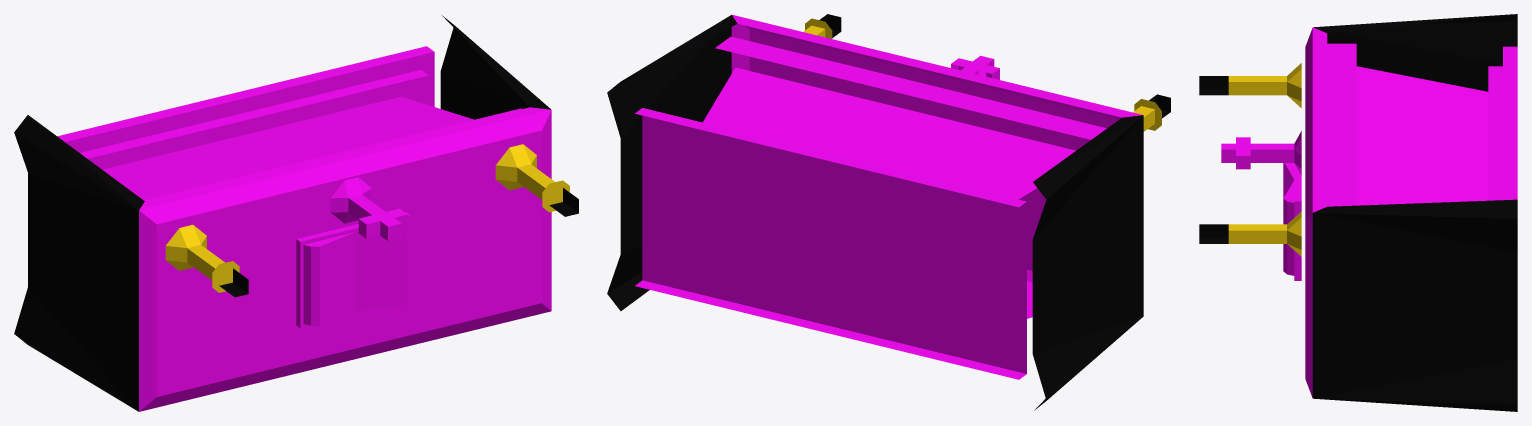
Rendered from altar.obj.
3 views of the same model, side by side, from view 1: azimuth 30°, elevation 25°; view 2: azimuth 150°, elevation 25°; view 3: azimuth 270°, elevation 25° (orthographic). The views are drawn at different scales.
Visible parts, largest first — view 1: altar; view 2: altar; view 3: altar.
Part boxes in pixels (x1,y1,x2,y2): altar: (14, 15, 578, 411); altar: (607, 14, 1170, 410); altar: (1199, 14, 1517, 411).
Bounding box in the file's own units: 2.56 × 1.28 × 1.74.
